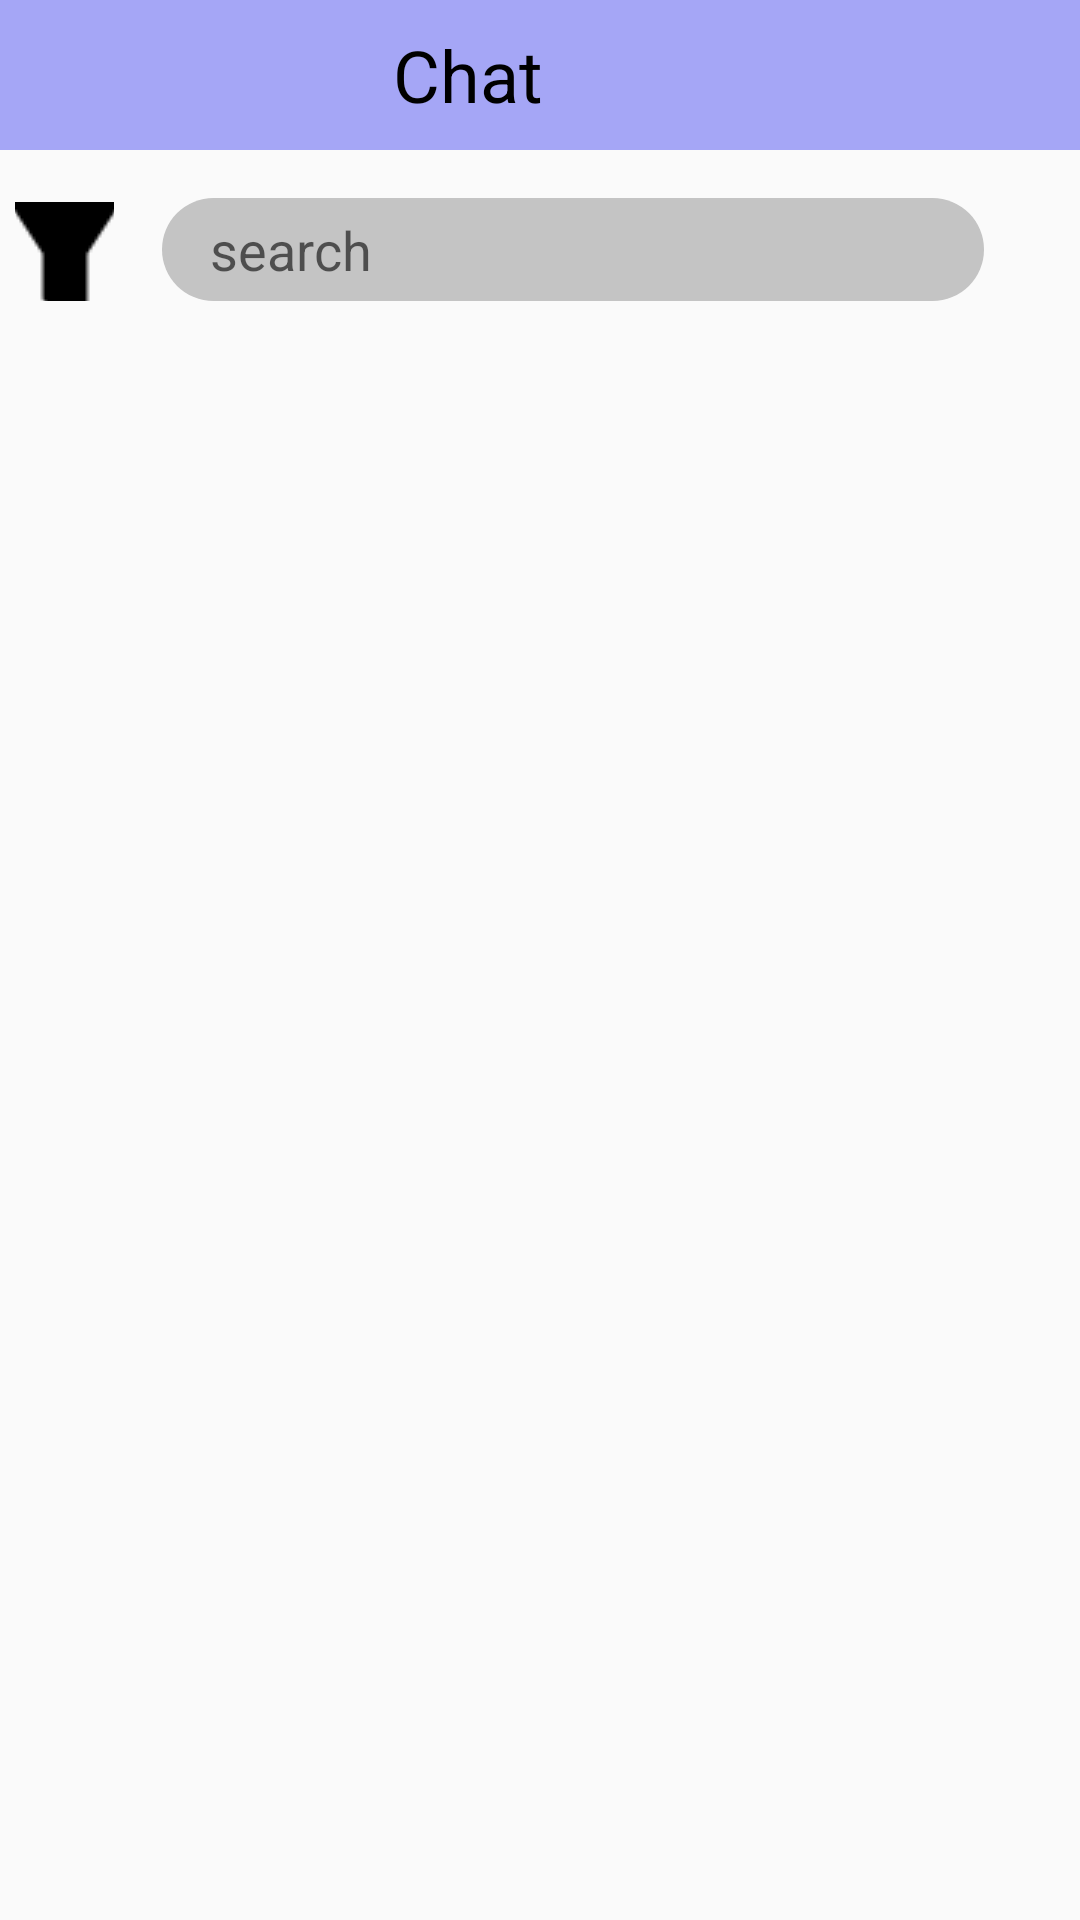

Locate icon controls on the screen. Image size 1080×1920, boxes as (x1,y1,x2,y2).
filter: (15,202,114,301)
